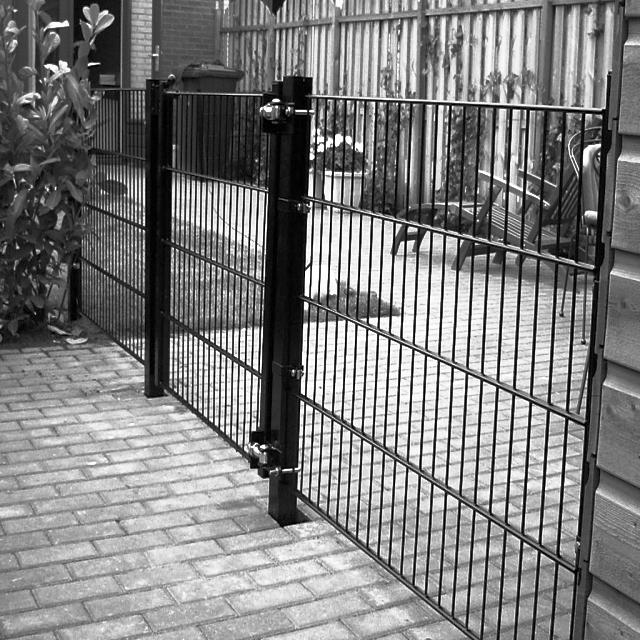fences: (84, 91, 178, 345), (188, 91, 189, 92)
